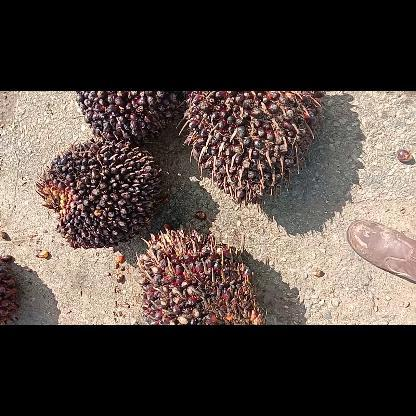TBS mentah: (175, 92, 330, 209), (34, 136, 164, 250), (133, 222, 267, 324), (74, 90, 186, 144)
